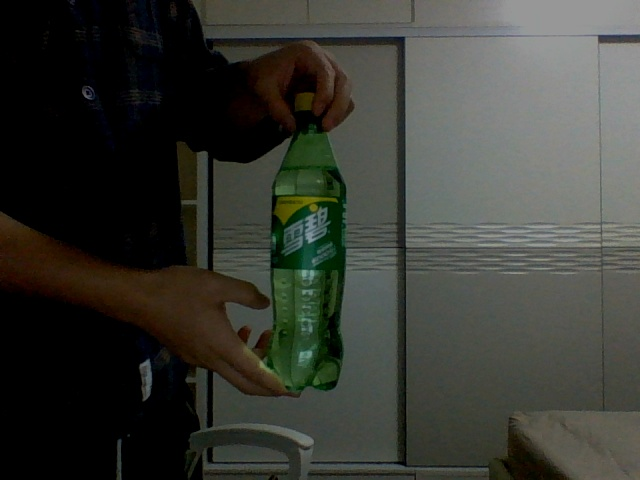Sprite: (271, 91, 346, 390)
